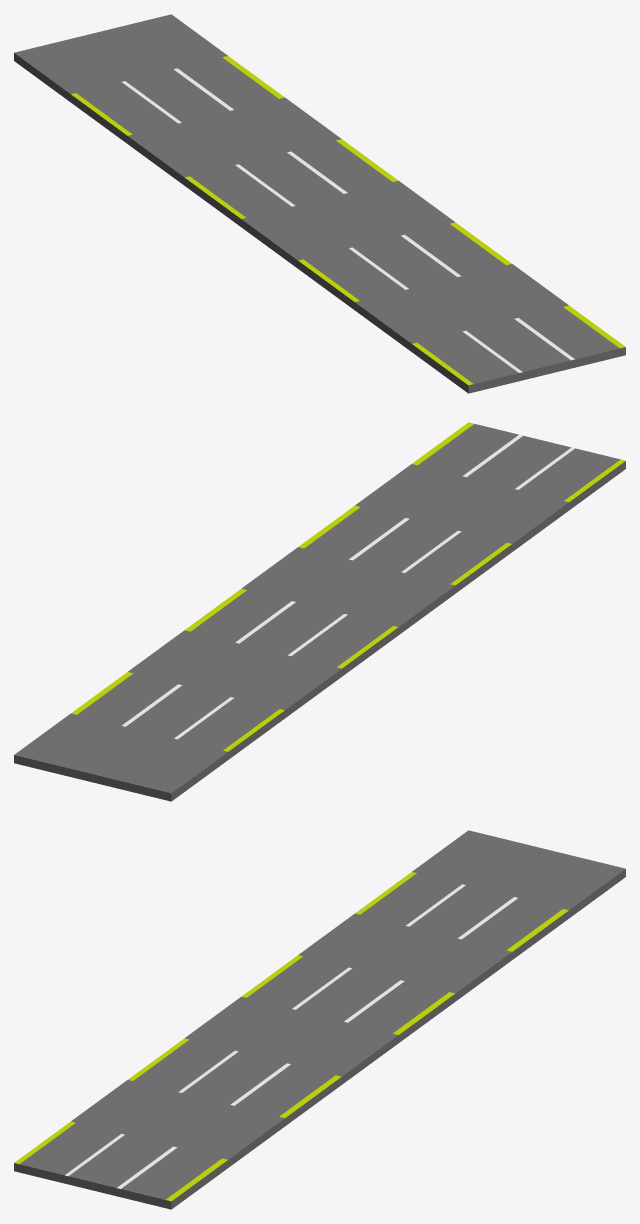
Rendered from Road.fbx.
3 renders of one model, top to bottom at view 1: azimuth 30°, elevation 25°; view 2: azimuth 150°, elevation 25°; view 3: azimuth 330°, elevation 25°, orthographic.
Visible parts, largest first — view 1: Cube; view 2: Cube; view 3: Cube.
Boxes of the visible parts, box(x1,y1,x2,y2) form: Cube: box(14, 14, 625, 393); Cube: box(14, 422, 625, 801); Cube: box(14, 830, 625, 1209).
Bounding box in the file's own units: 800 × 40 × 4000.
